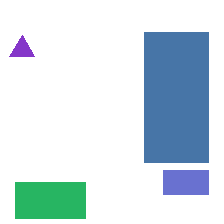rectangle: (144, 32, 208, 162), (15, 182, 85, 218), (163, 170, 208, 194)
triangle: (9, 35, 34, 56)
